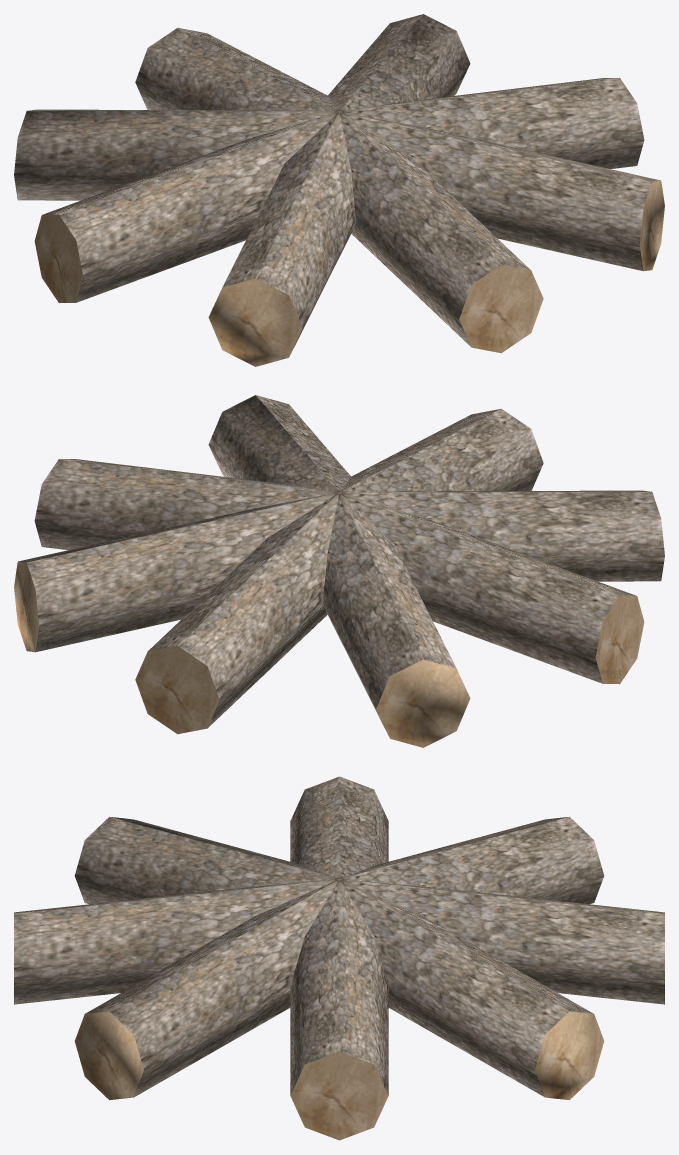
The model's file is Campfire 1.fbx.
The picture shows the model from 3 angles, top to bottom: view 1: azimuth 30°, elevation 25°; view 2: azimuth 150°, elevation 25°; view 3: azimuth 270°, elevation 25°; orthographic projection.
Parts seen in each view (by area): view 1: Cylinder; view 2: Cylinder; view 3: Cylinder.
Part boxes in pixels (bbox=[...]): Cylinder: bbox=[14, 14, 664, 366]; Cylinder: bbox=[14, 395, 664, 747]; Cylinder: bbox=[14, 776, 664, 1140].
Bounding box in the file's own units: 914 × 192 × 914.
